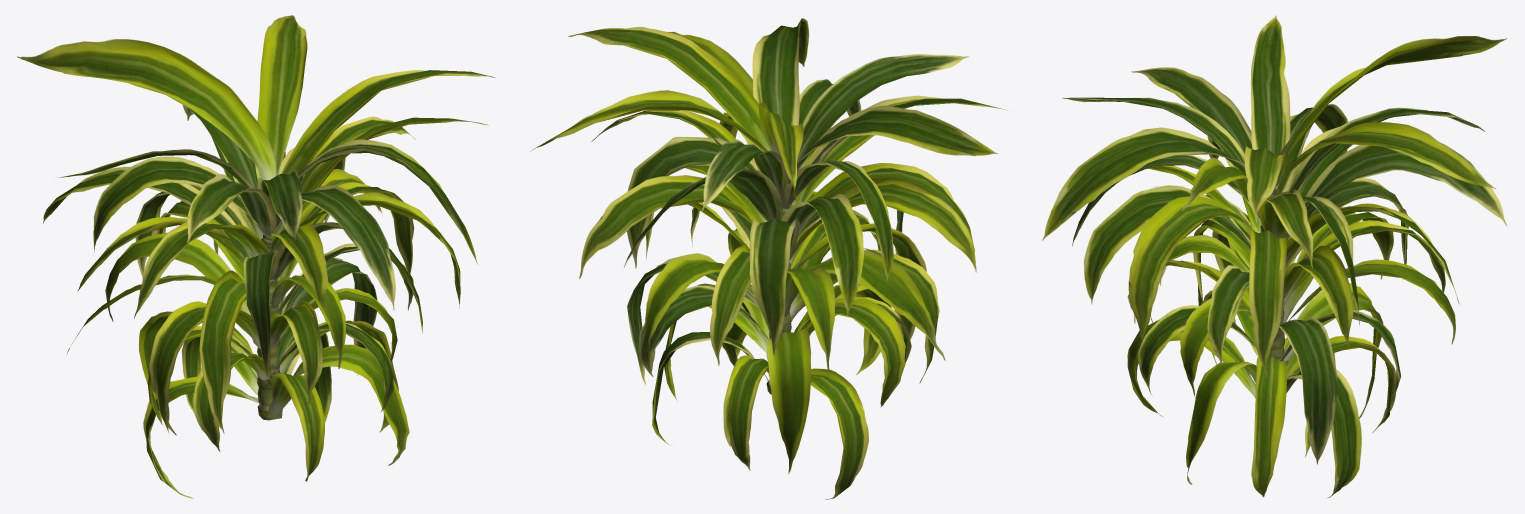
Rendered from Dracaena_Warneckii_Lemon_Lime_Cane.glb.
The picture shows the model from 3 angles, left to right: view 1: azimuth 30°, elevation 25°; view 2: azimuth 150°, elevation 25°; view 3: azimuth 270°, elevation 25°; orthographic projection. The views are drawn at different scales.
Parts seen in each view (by area): view 1: Dracaena Warneckii Lemon Lime Cane 02; view 2: Dracaena Warneckii Lemon Lime Cane 02; view 3: Dracaena Warneckii Lemon Lime Cane 02.
Part boxes in pixels (box(x1,y1,x2,y2)): Dracaena Warneckii Lemon Lime Cane 02: box(17, 15, 495, 498); Dracaena Warneckii Lemon Lime Cane 02: box(530, 18, 1005, 499); Dracaena Warneckii Lemon Lime Cane 02: box(1042, 15, 1507, 497).
Size of the model in its own units: 3.49 by 3.2 by 3.27.
2 materials, 2 textured.
